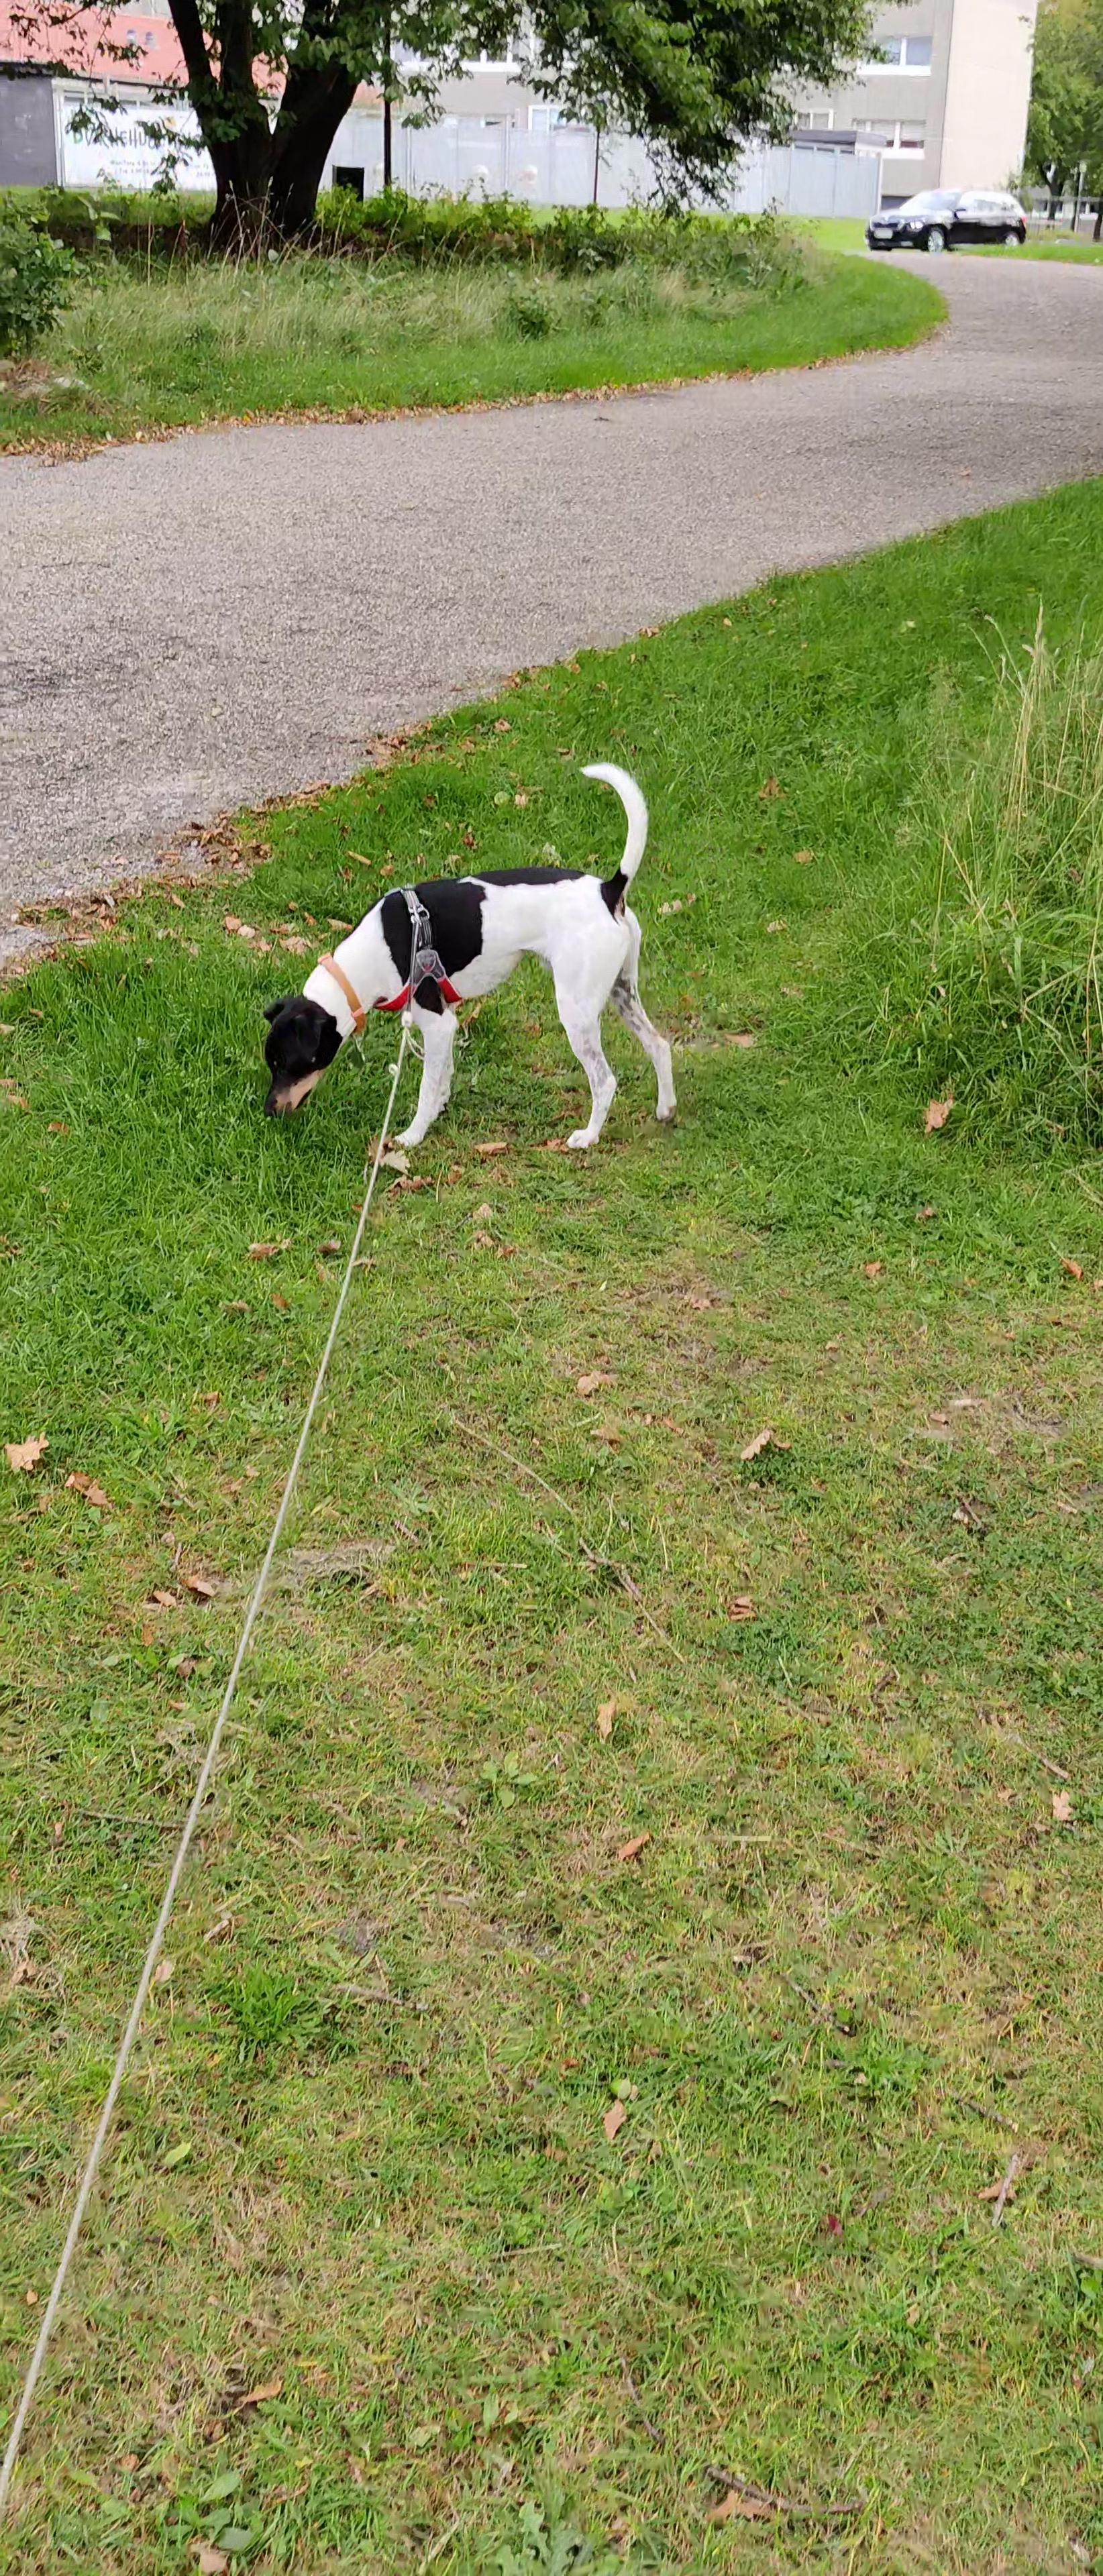Dog: (248, 752, 682, 1157)
